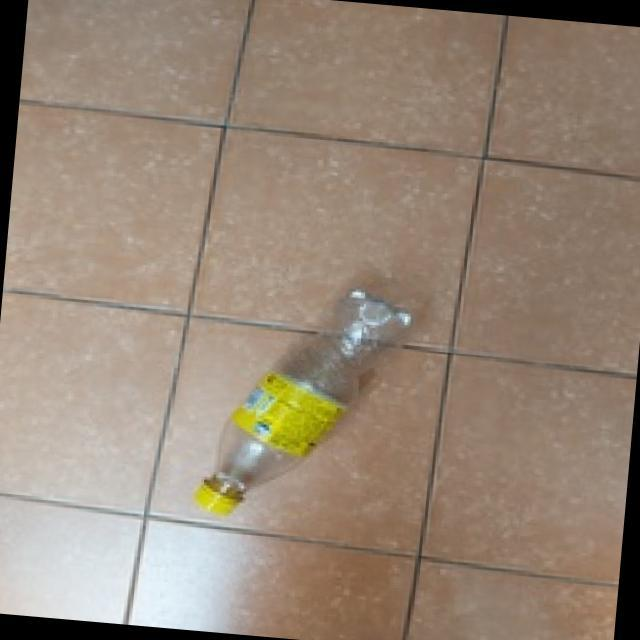good: (190, 260, 416, 561)
